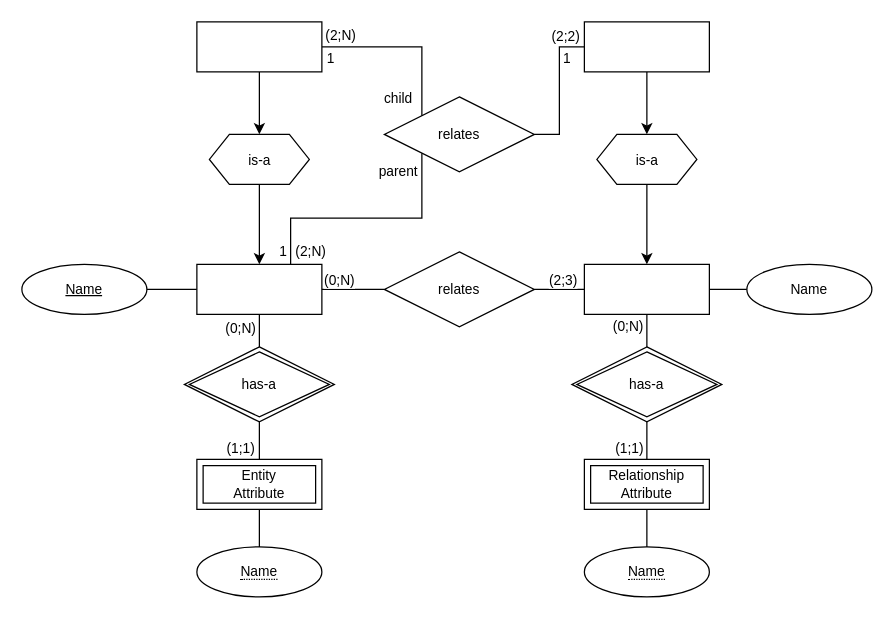
Some shapes in this 894 by 619 pixel diagram are drawn without their labels. The shapes that lost their labels are listed below. From the top down, each one's centre as x and y in pixels, then its label:
At point 259,46: "Weak Entity".
At point 646,46: "Weak Relationship".
At point 259,288: "Entity".
At point 646,288: "Relationship".
